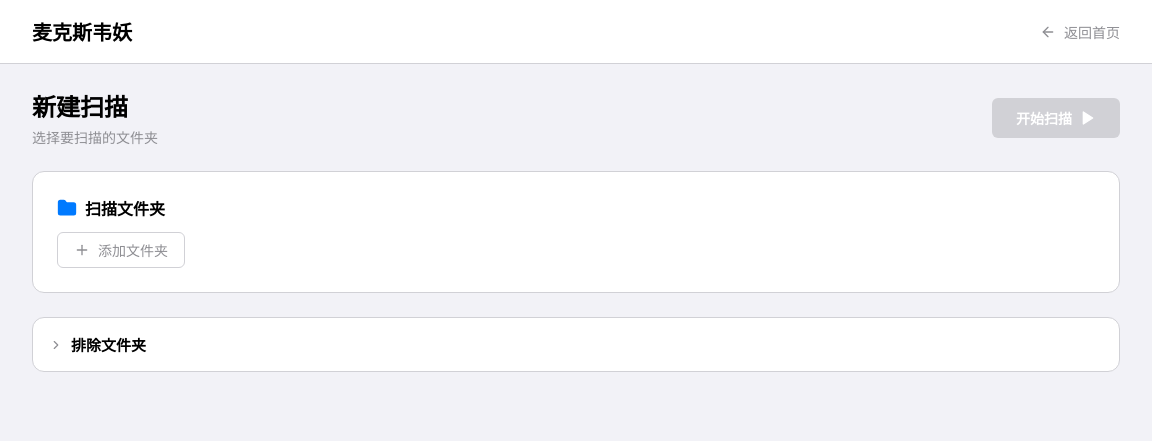
Test: NewScan 页面 (FE-UI-02) › 点击排除文件夹区域应展开子内容
Click the heading "排除文件夹": [108, 344] box [71,334,146,355]
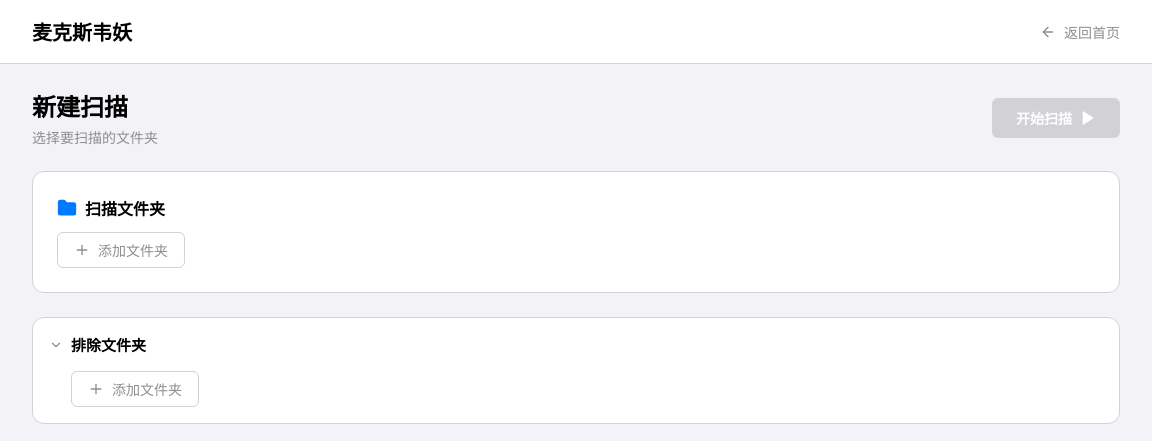
Check: the button "添加文件夹" below "排除文件夹" is shown, box [71,371,199,407]
